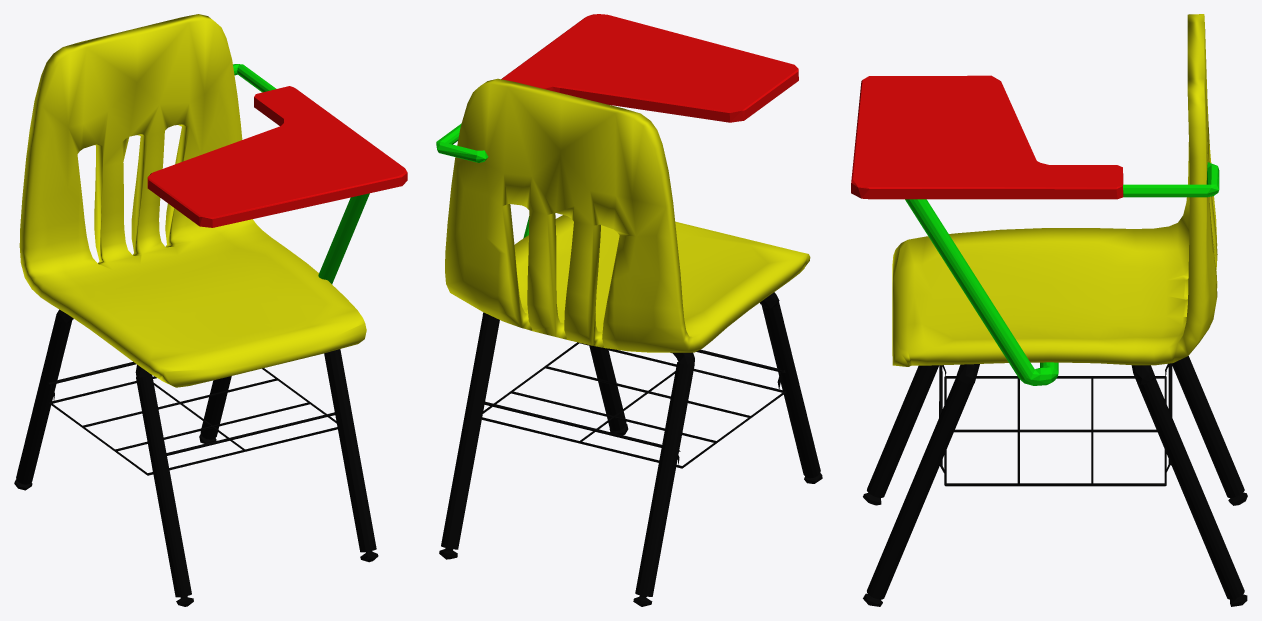
File: SM_SchoolDesk.fbx
The picture shows the model from 3 angles, left to right: view 1: azimuth 30°, elevation 25°; view 2: azimuth 150°, elevation 25°; view 3: azimuth 270°, elevation 25°; orthographic projection. The views are drawn at different scales.
Parts seen in each view (by area): view 1: US_School_desk; view 2: US_School_desk; view 3: US_School_desk.
Part boxes in pixels (box(x1,y1,x2,y2)): US_School_desk: box(14, 14, 407, 606); US_School_desk: box(436, 14, 822, 606); US_School_desk: box(851, 14, 1247, 606).
Size of the model in its own units: 49.16 by 87.83 by 62.56.
